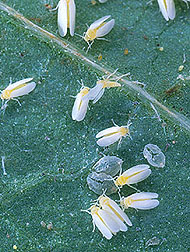whitefly: (83, 69, 130, 105), (73, 14, 114, 52), (93, 189, 130, 230), (108, 161, 153, 194), (82, 200, 118, 239), (1, 76, 36, 109), (95, 120, 133, 149), (69, 80, 93, 122), (114, 191, 161, 211), (53, 1, 77, 39)
